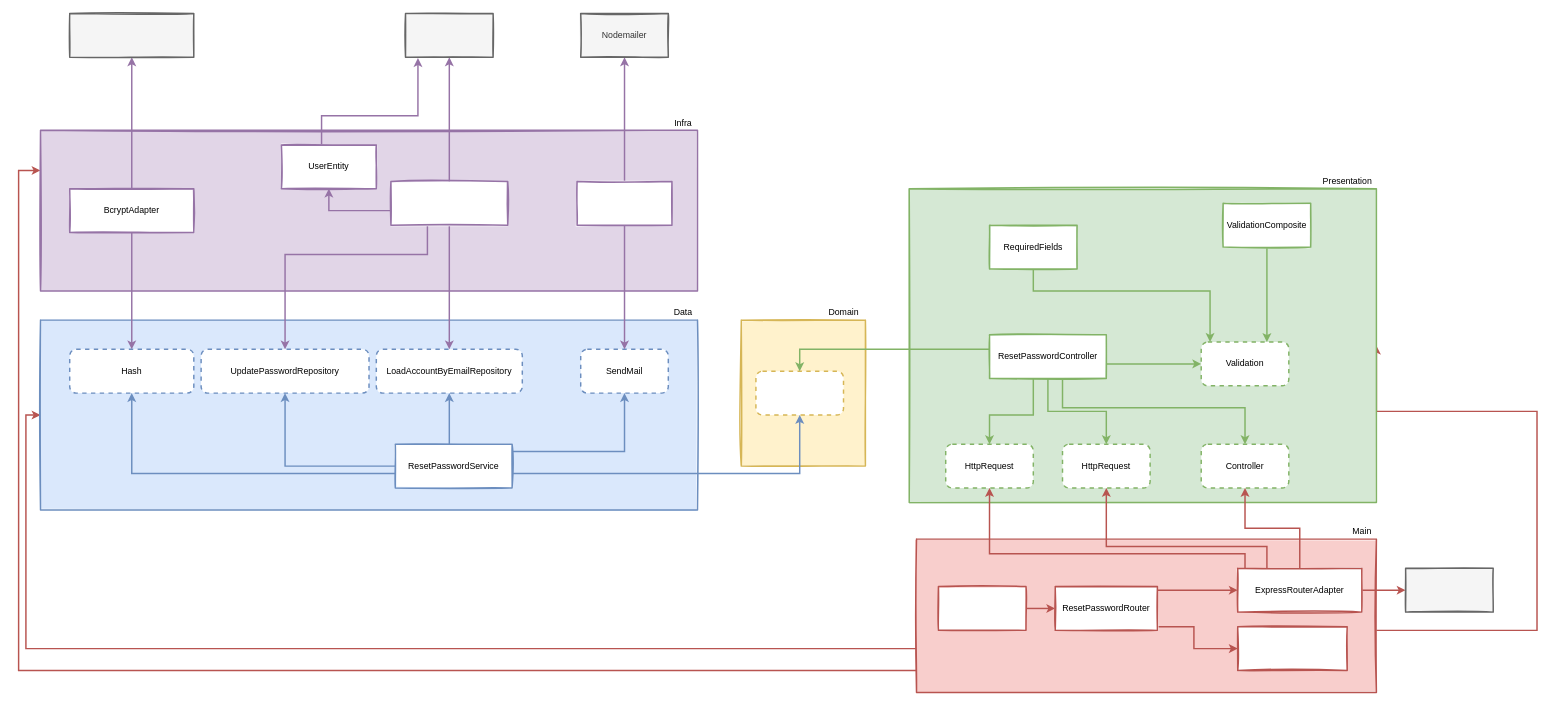
The diagram is 1556 pixels wide and 705 high, and some of its shapes have lost their labels. Each missing label, with the centre of its shape:
AccountPgRepository: (449,203)
App: (981,608)
Bcrypt: (131,35)
Express: (1449,589)
ResetPassword: (799,392)
ResetPasswordFactory: (1292,648)
SendEmailNodeMailer: (624,203)
TypeOrm: (448,35)
